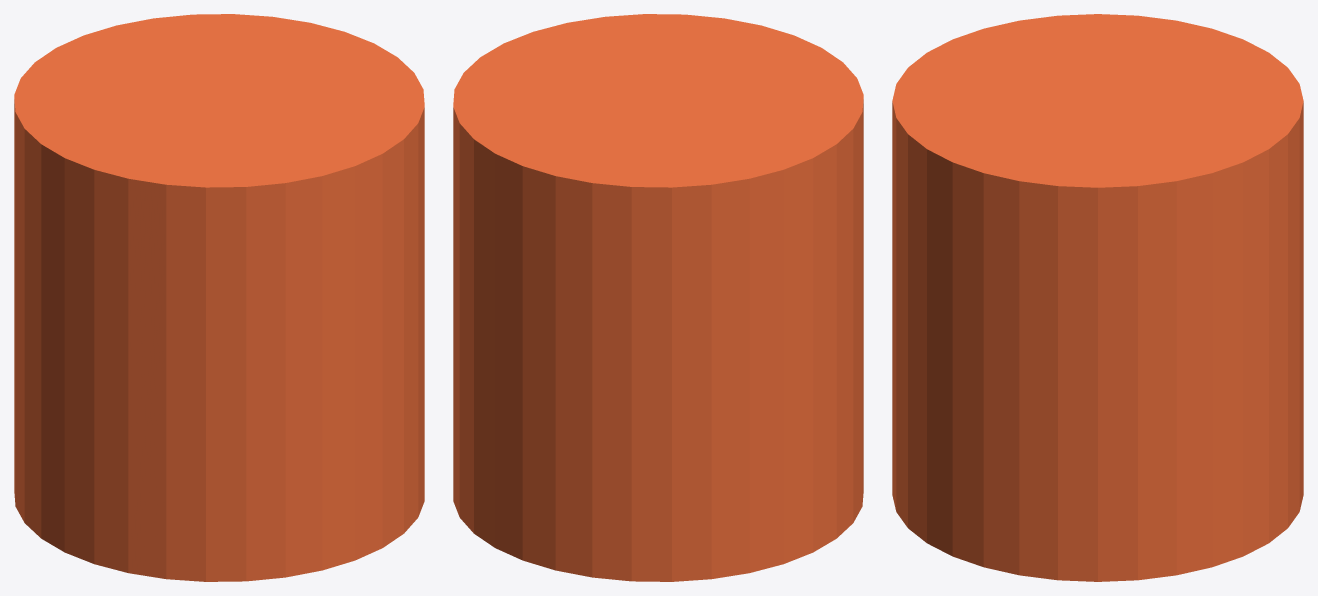
File: Field.obj
3 renders of one model, left to right at view 1: azimuth 30°, elevation 25°; view 2: azimuth 150°, elevation 25°; view 3: azimuth 270°, elevation 25°, orthographic.
Visible parts, largest first — view 1: 円柱; view 2: 円柱; view 3: 円柱.
Part boxes in pixels (left/top/right/bottom): 円柱: left=14, top=14, right=424, bottom=581; 円柱: left=453, top=14, right=863, bottom=581; 円柱: left=892, top=14, right=1303, bottom=581.
Bounding box in the file's own units: 12.08 × 12.77 × 12.08.
Materials: 1 (1 with a texture image).
